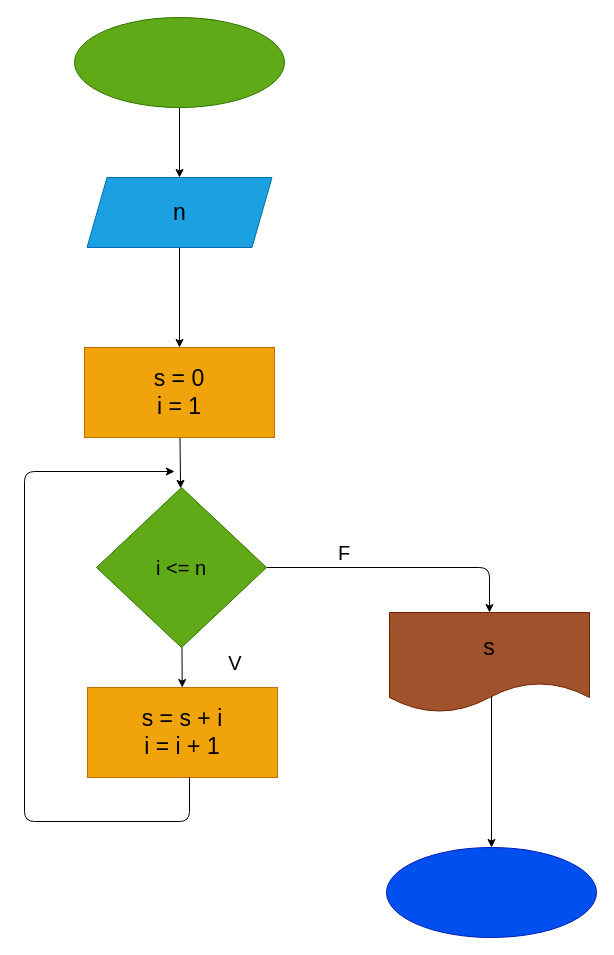
The diagram is 614 pixels wide and 955 high, and some of its shapes have lost their labels. Here are the shapes that lost their labels. From the top down, the box of each, then its label:
(74, 16, 284, 108): INICIO
(386, 846, 596, 938): FIN
